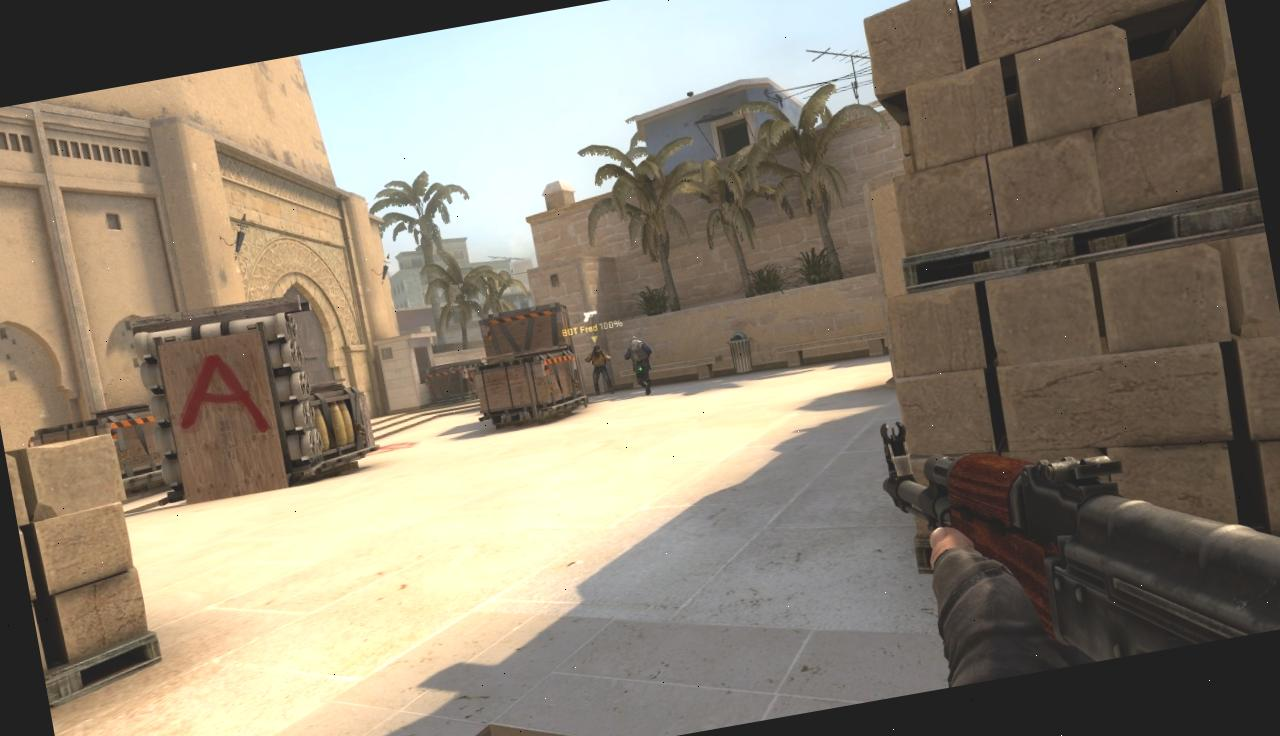ct: (622, 333, 659, 398)
cthead: (630, 334, 640, 342)
rifle: (873, 353, 1280, 692)
tt: (584, 342, 618, 396)
tthead: (593, 344, 602, 354)
